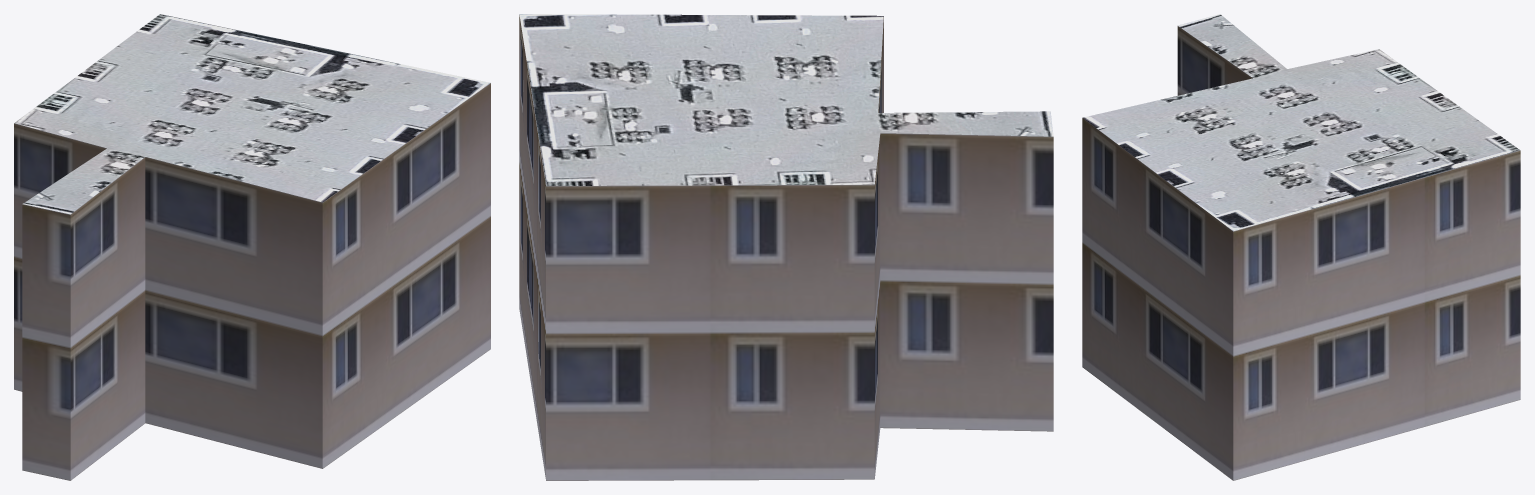
Rendered from ResTex__1481.fbx.
3 views of the same model, side by side, from view 1: azimuth 30°, elevation 25°; view 2: azimuth 150°, elevation 25°; view 3: azimuth 270°, elevation 25° (orthographic). The views are drawn at different scales.
Parts seen in each view (by area): view 1: CityEngineMaterial_21_m, CityEngineMaterial_4_m; view 2: CityEngineMaterial_21_m, CityEngineMaterial_4_m; view 3: CityEngineMaterial_21_m, CityEngineMaterial_4_m.
Part boxes in pixels (x1,y1,x2,y2): CityEngineMaterial_21_m: (14, 83, 490, 480); CityEngineMaterial_4_m: (14, 14, 490, 214); CityEngineMaterial_21_m: (519, 15, 1053, 480); CityEngineMaterial_4_m: (519, 14, 1053, 185); CityEngineMaterial_21_m: (1082, 26, 1520, 480); CityEngineMaterial_4_m: (1083, 14, 1519, 231).
Size of the model in its own units: 11.21 by 6 by 9.54.
Materials: 2 (2 with a texture image).
